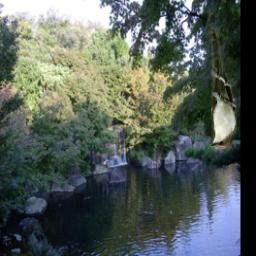Cuckoo: (211, 29, 237, 150)
